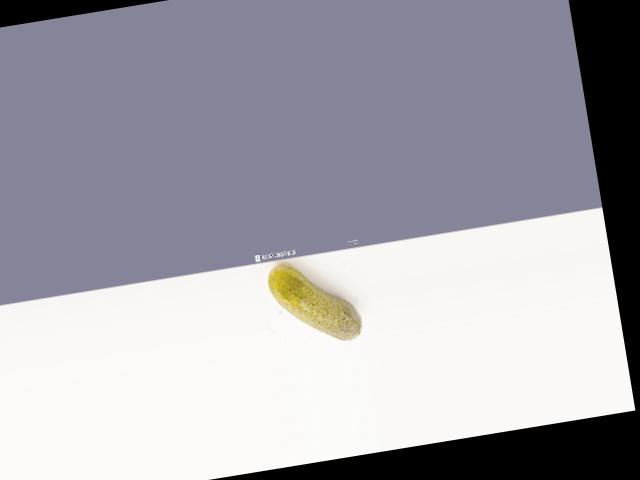cucumber: (265, 252, 364, 350)
